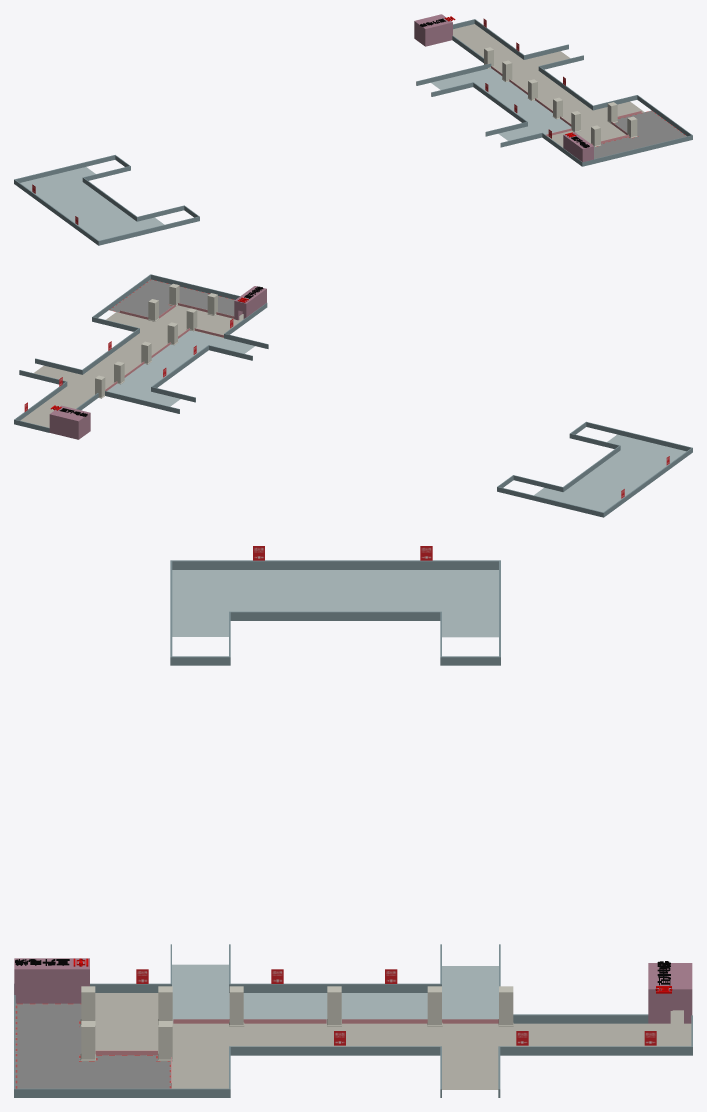
The model's file is psop-whgj-syl-b2.205cda4.glb.
3 renders of one model, top to bottom at view 1: azimuth 30°, elevation 25°; view 2: azimuth 150°, elevation 25°; view 3: azimuth 270°, elevation 25°, orthographic. The views are drawn at different scales.
Visible parts, largest first — view 1: road-b2-2, road-b2-1, Box751, Box753, road-b2-3, zhuzi124, Object112, Object105, Plane082; view 2: road-b2-2, road-b2-1, Box751, Box753, road-b2-3, zhuzi124, Object112, Object105, Plane082; view 3: road-b2-2, road-b2-1, Box751, road-b2-3, Box753, zhuzi124, Object105, Object112, Plane082, Object171.
Part boxes in pixels (x1,y1,x2,y2): road-b2-2: (20,68,571,240); road-b2-1: (453,24,644,147); Box751: (416,19,692,166); Box753: (14,155,199,245); road-b2-3: (594,110,686,158); zhuzi124: (484,47,637,146); Object112: (414,14,452,46); Object105: (563,132,593,162); Plane082: (491,66,641,144); road-b2-2: (107,330,686,512); road-b2-1: (20,305,243,427); Box751: (14,274,268,432); Box753: (497,421,692,517); road-b2-3: (110,279,234,317); zhuzi124: (95,283,217,398); Object112: (49,405,90,439); Object105: (234,286,266,320); Plane082: (105,303,234,391); road-b2-2: (172,570,498,1023); road-b2-1: (95,993,691,1089); Box751: (14,944,692,1097); road-b2-3: (15,1003,170,1088); Box753: (170,560,500,665); zhuzi124: (80,986,513,1061); Object105: (14,958,89,1003); Object112: (648,963,692,1023); Plane082: (95,1019,498,1086); Object171: (136,546,656,1045).
Bounding box in the file's own units: 132 × 4.2 × 71.47.
Materials: 11 (2 with a texture image).
